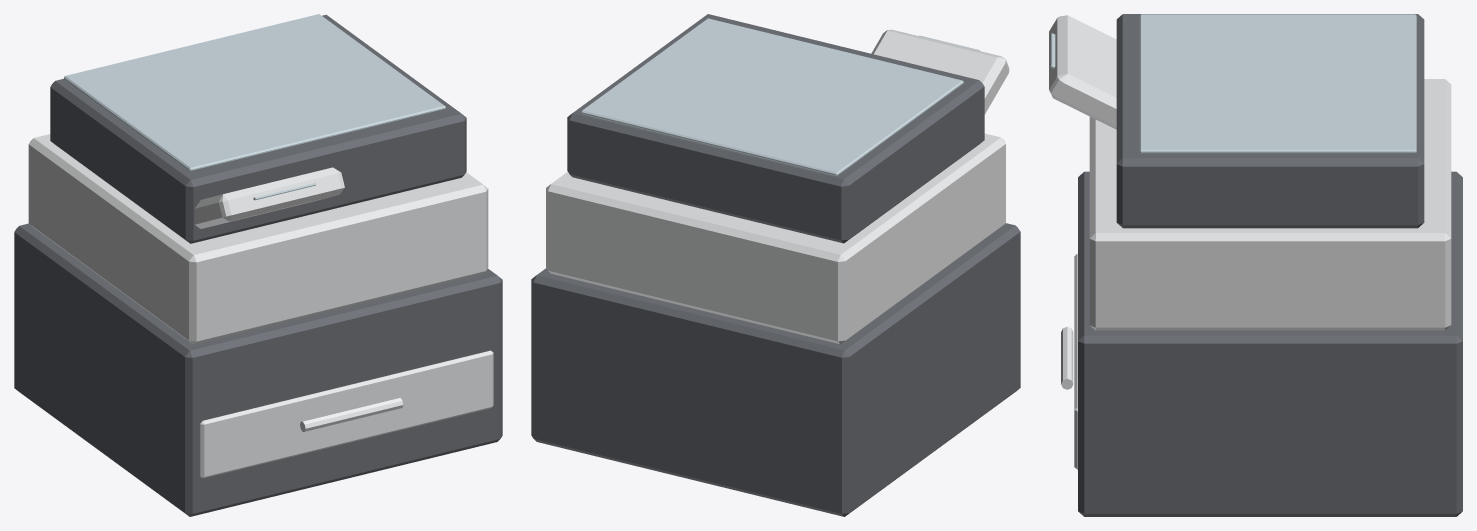
The model's file is police-station-and-detective-office-office-printer-d98bbd85__29965.glb.
3 views of the same model, side by side, from view 1: azimuth 30°, elevation 25°; view 2: azimuth 150°, elevation 25°; view 3: azimuth 270°, elevation 25° (orthographic). The views are drawn at different scales.
Visible parts, largest first — view 1: office-printer; view 2: office-printer; view 3: office-printer.
Boxes of the visible parts, <box> form: office-printer: <box>14,14,502,516</box>; office-printer: <box>531,14,1020,516</box>; office-printer: <box>1049,14,1462,516</box>.
Size of the model in its own units: 0.52 by 0.506 by 0.5376.
